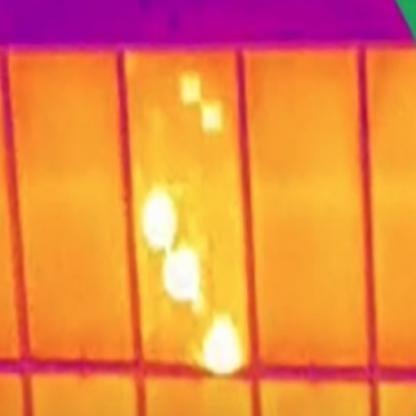Defects: (166, 252, 208, 310), (150, 193, 178, 247), (209, 316, 236, 365), (182, 71, 204, 103), (204, 107, 220, 129)
